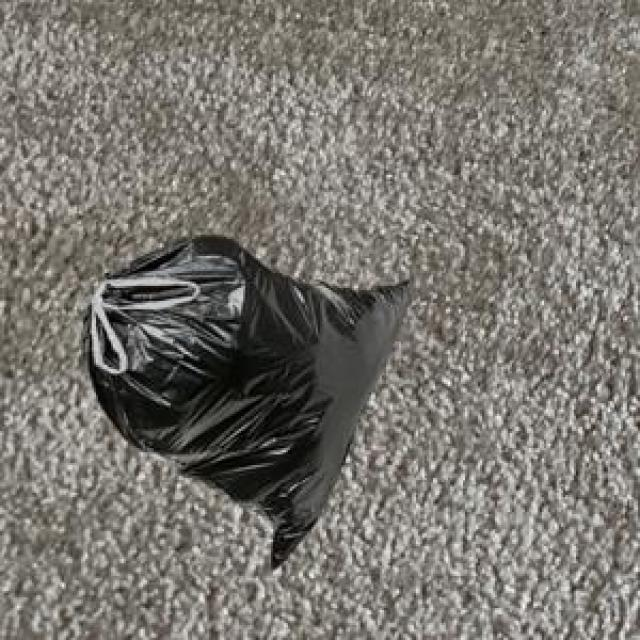miscellaneous trash: (79, 230, 408, 565)
